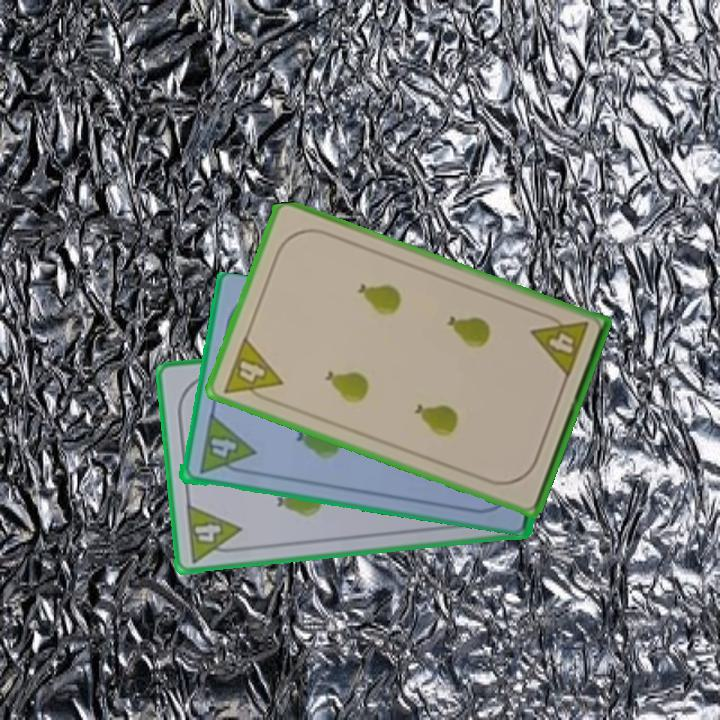4p: (219, 333, 286, 408), (528, 308, 591, 381), (182, 500, 246, 565), (194, 412, 257, 478)
